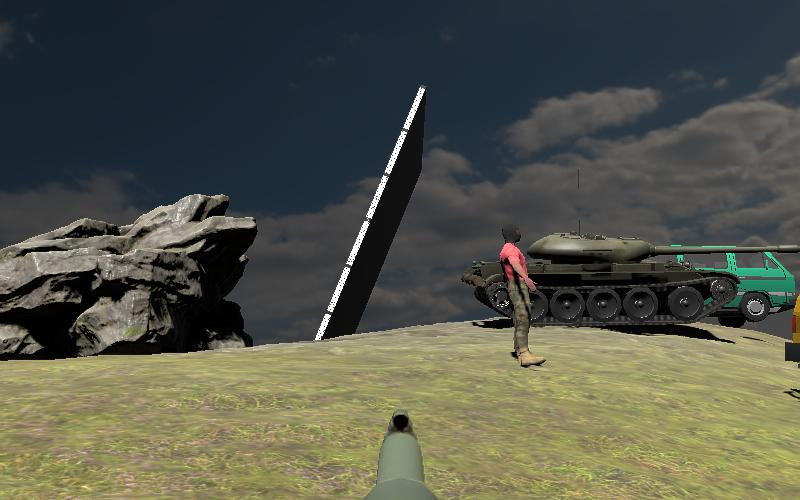Human: (498, 231, 546, 368)
Tank: (463, 232, 797, 328)
